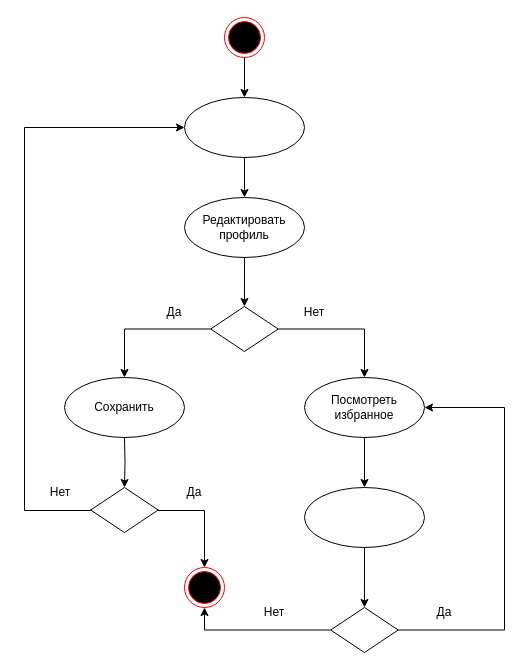
Some shapes in this 530 by 670 pixel diagram are drawn without their labels. The centre of each missing label's shape, as x and y in pixels:
"Просмотр информации о пользователе" goes at (244,127).
"Удалить фильм" goes at (364,517).
